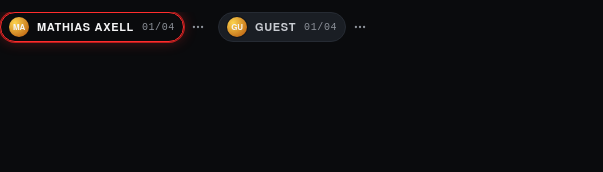
ShooterChipStrip menu › explains why a shooter without one has no look to edit
Click the button named "More for Guest" at (360, 26), box [348,14,372,38]
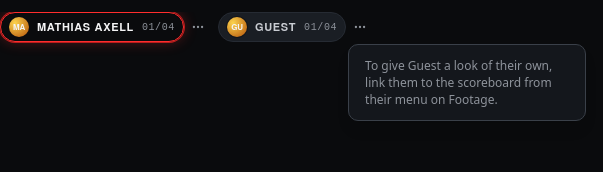
Expected: the text "To give Guest a look of their own, link them to the scoreboard" is shown, [365,56,552,108]
